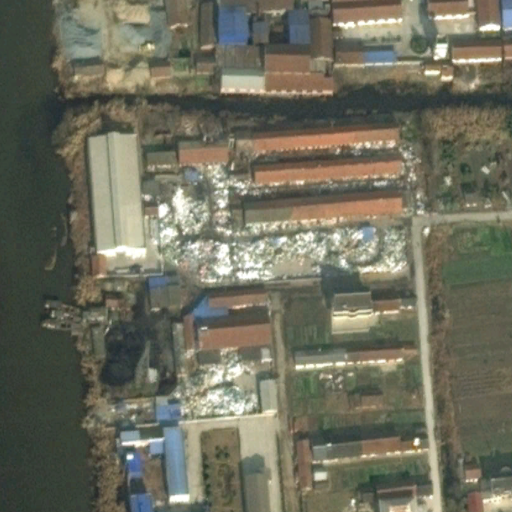msw: (158, 162, 405, 282), (184, 348, 261, 417)
